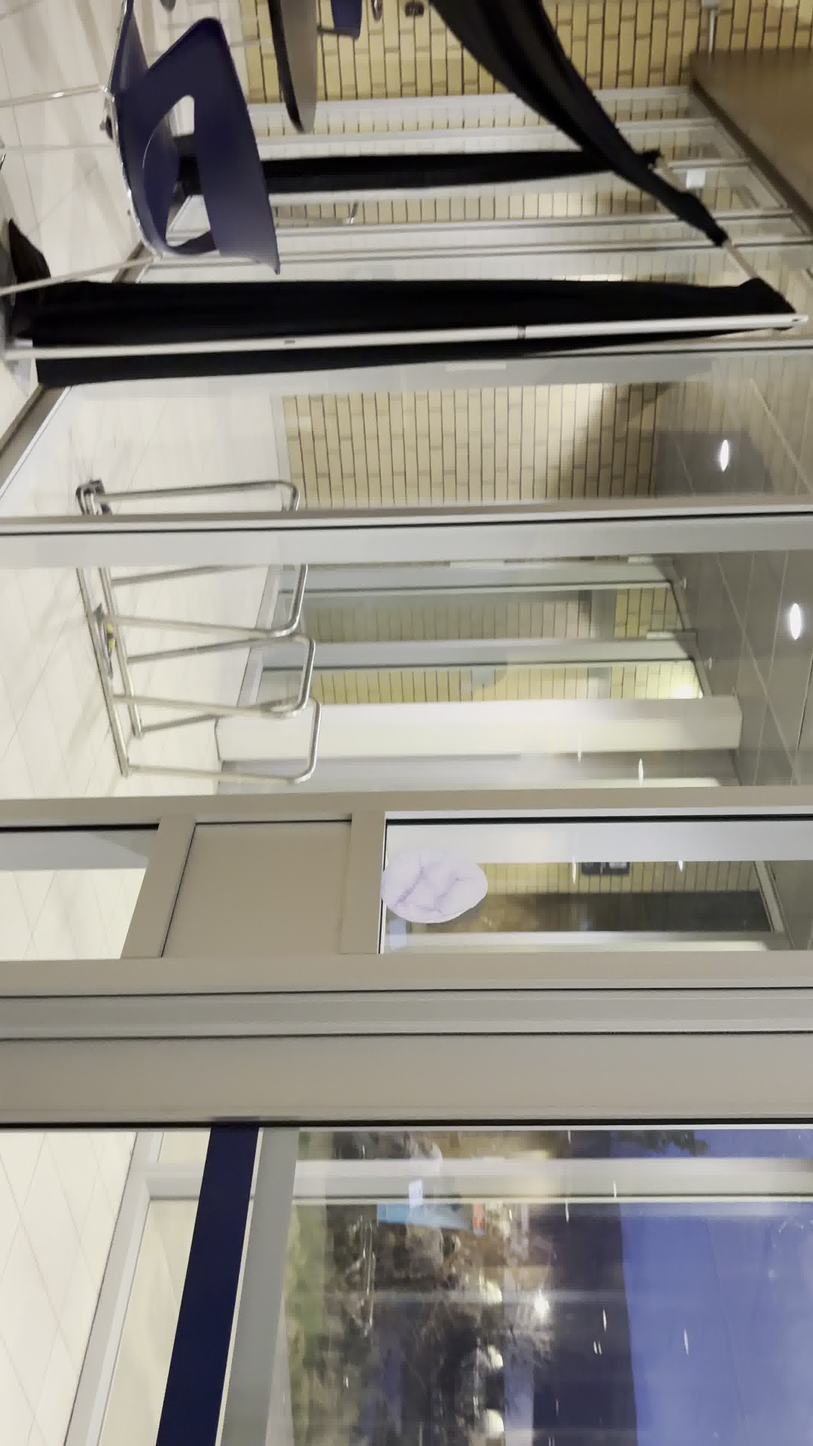Target: (378, 846, 490, 925)
